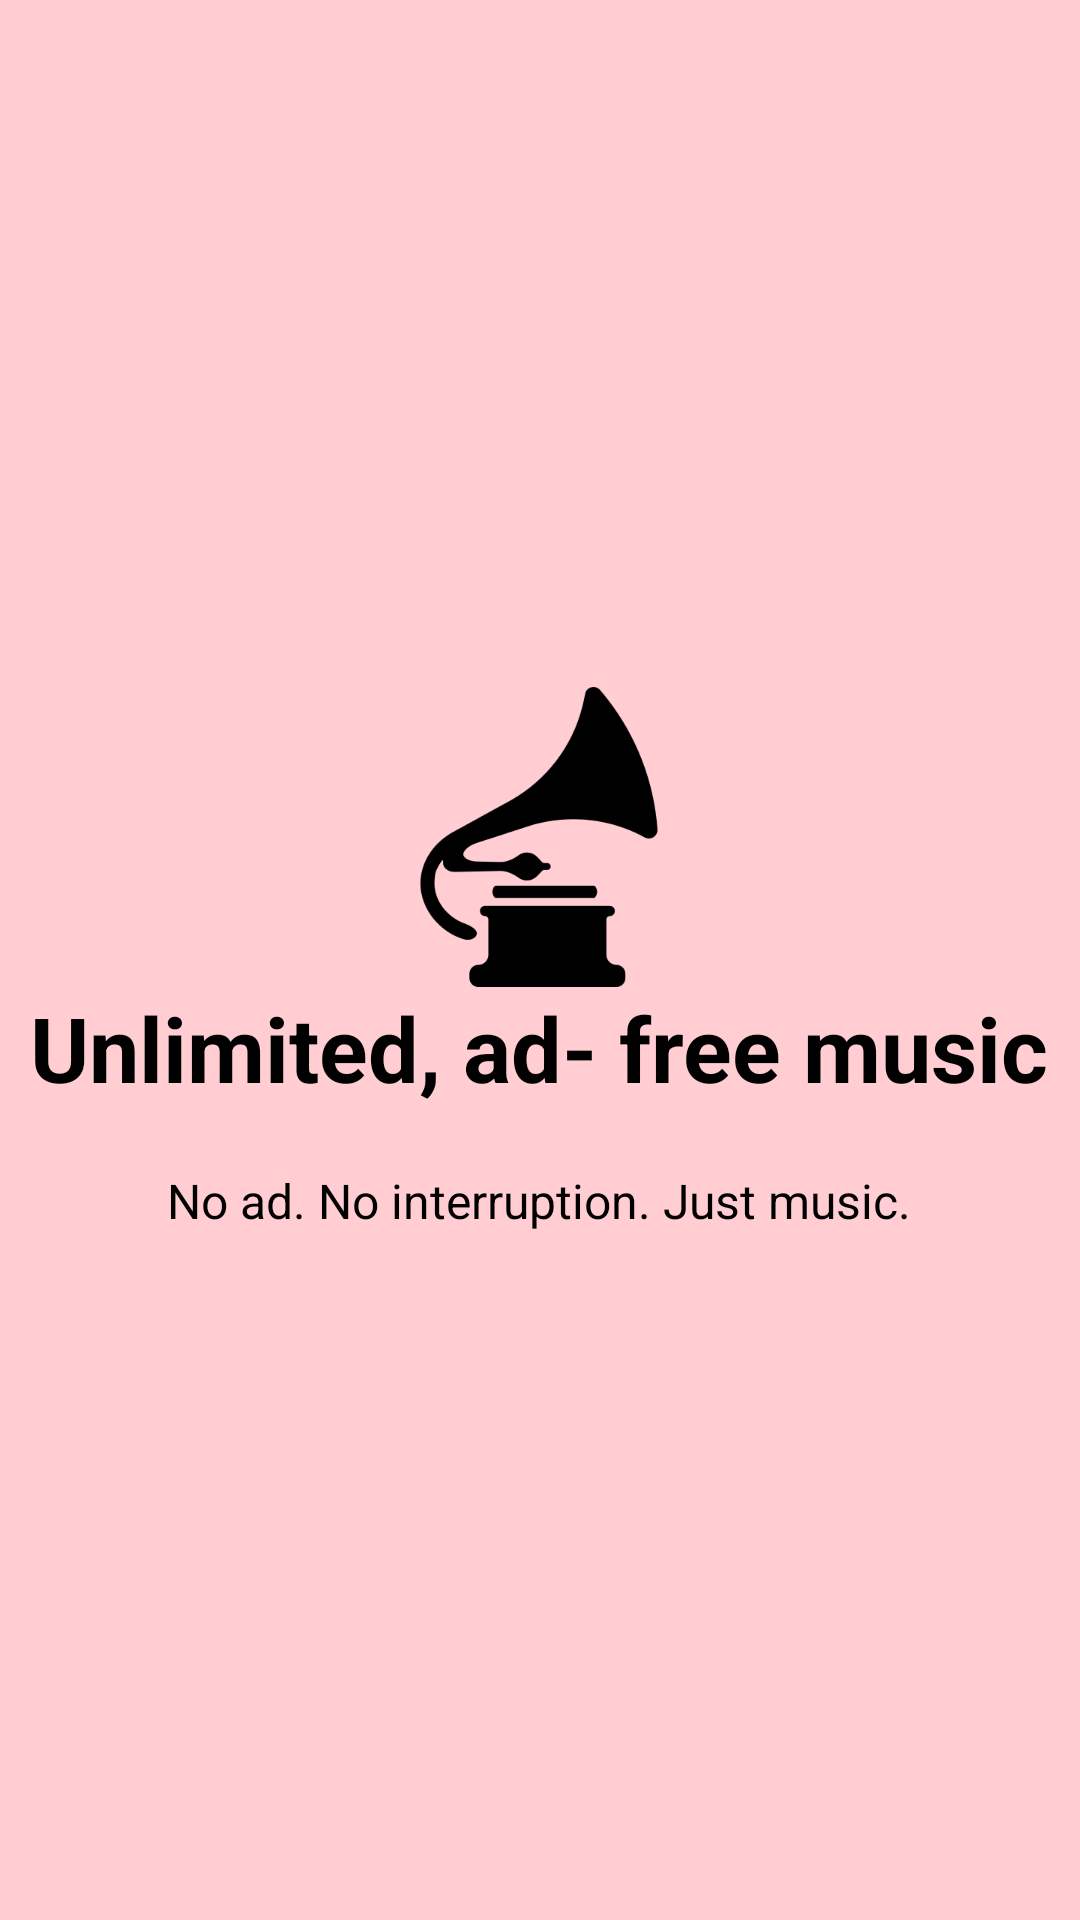

Locate icon controls on the screen. Image size 1080*1920, boxes as (x1, y1, x2, y2).
recordplayer: (420, 687, 658, 987)
